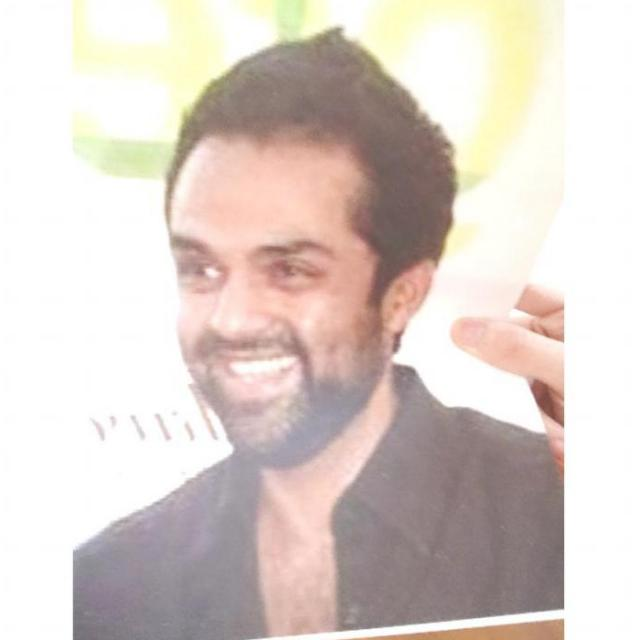photo: (71, 0, 562, 639)
